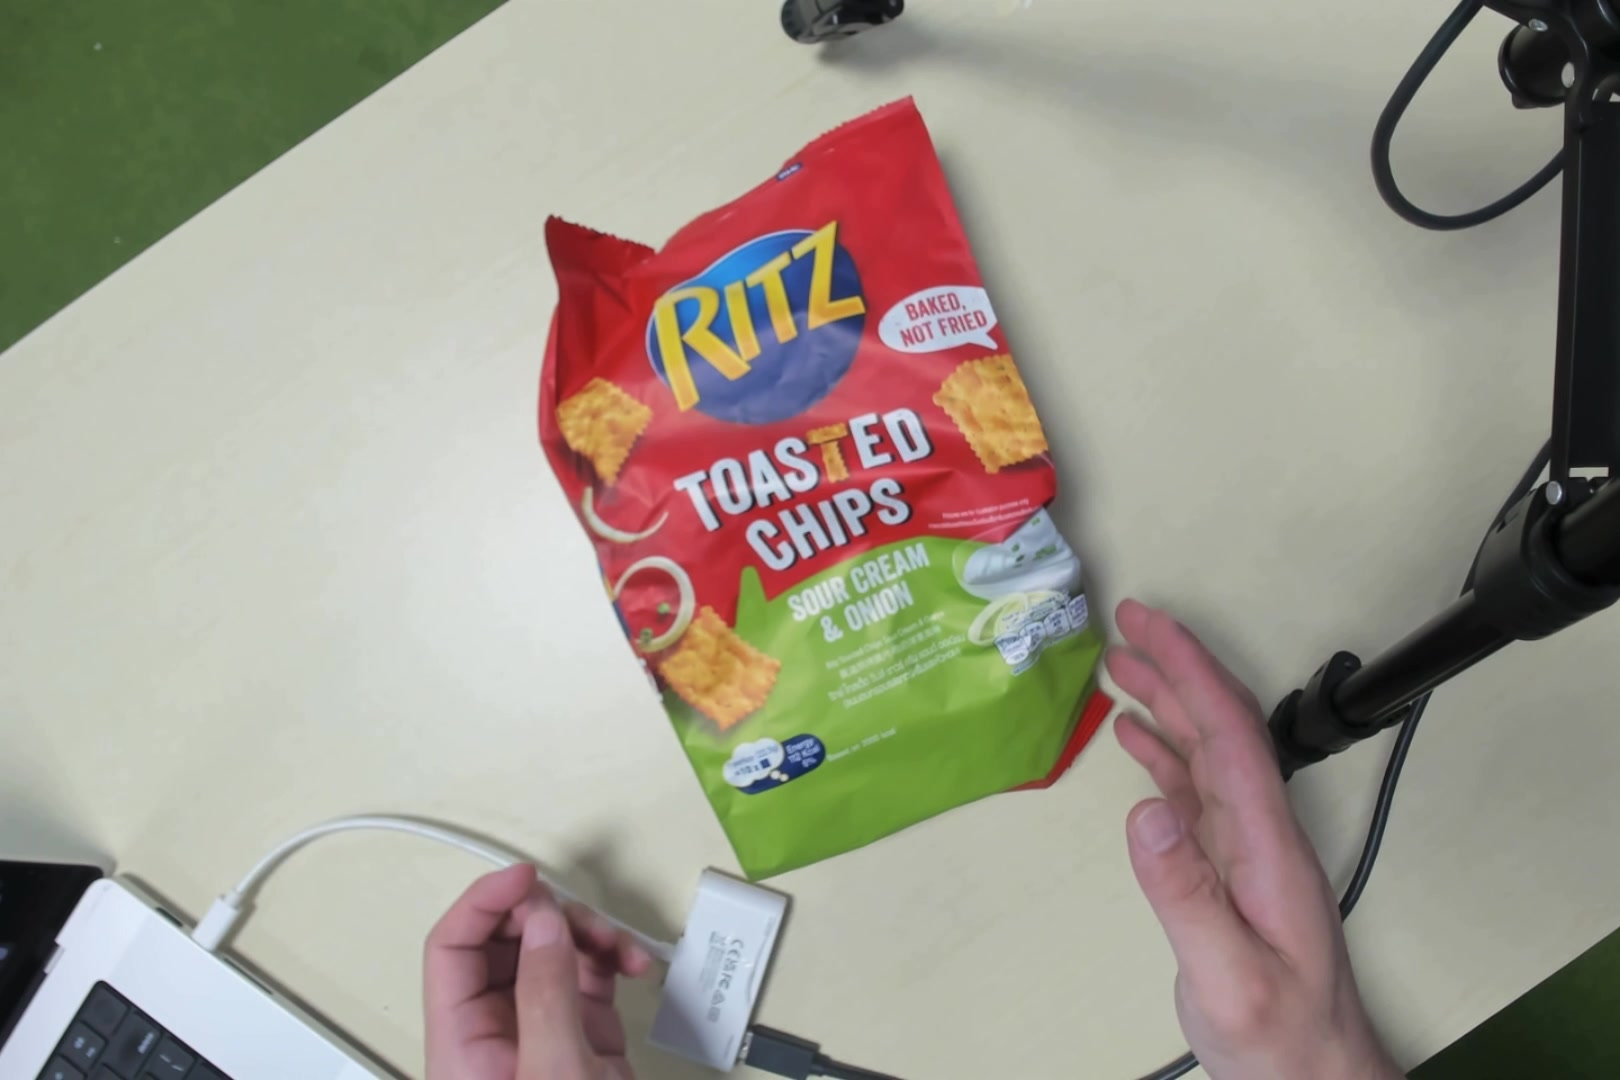BiscuitsCrackersCookies_200-299g_NonHalal_NonHealthy: (604, 172, 1053, 824)
